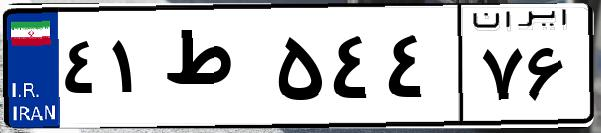1: (110, 28, 158, 98)
4: (385, 28, 445, 110), (330, 28, 385, 110), (57, 26, 110, 100)
5: (270, 28, 330, 110)
6: (525, 38, 570, 115)
7: (475, 38, 525, 113)
ط: (158, 20, 270, 120)
